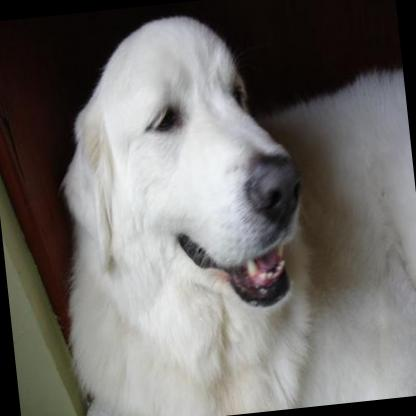Great_Pyrenees: (34, 0, 416, 416)
